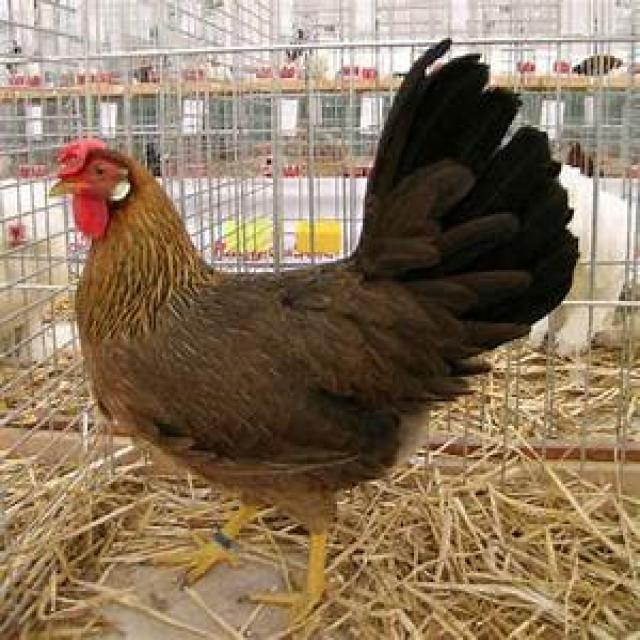hen: (49, 40, 578, 602)
